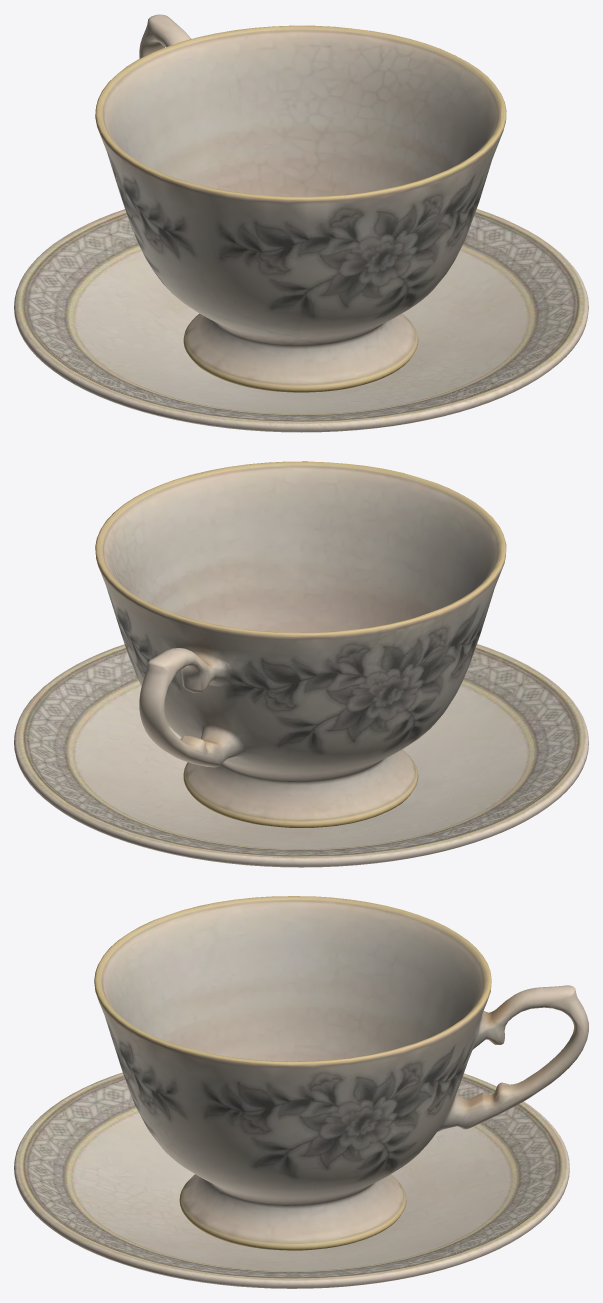
The model's file is casa-cup.glb.
3 renders of one model, top to bottom at view 1: azimuth 30°, elevation 25°; view 2: azimuth 150°, elevation 25°; view 3: azimuth 270°, elevation 25°, orthographic. The views are drawn at different scales.
Visible parts, largest first — view 1: tea_cup, tea_saucer; view 2: tea_cup, tea_saucer; view 3: tea_cup, tea_saucer.
Boxes of the visible parts, left/top/right/bottom form: tea_cup: left=95, top=14, right=506, bottom=392; tea_saucer: left=14, top=209, right=588, bottom=432; tea_cup: left=95, top=461, right=506, bottom=827; tea_saucer: left=14, top=644, right=588, bottom=867; tea_cup: left=94, top=896, right=588, bottom=1250; tea_saucer: left=14, top=1072, right=569, bottom=1288.
Size of the model in its own units: 0.1486 by 0.0704 by 0.1537.
2 materials, 2 textured.
